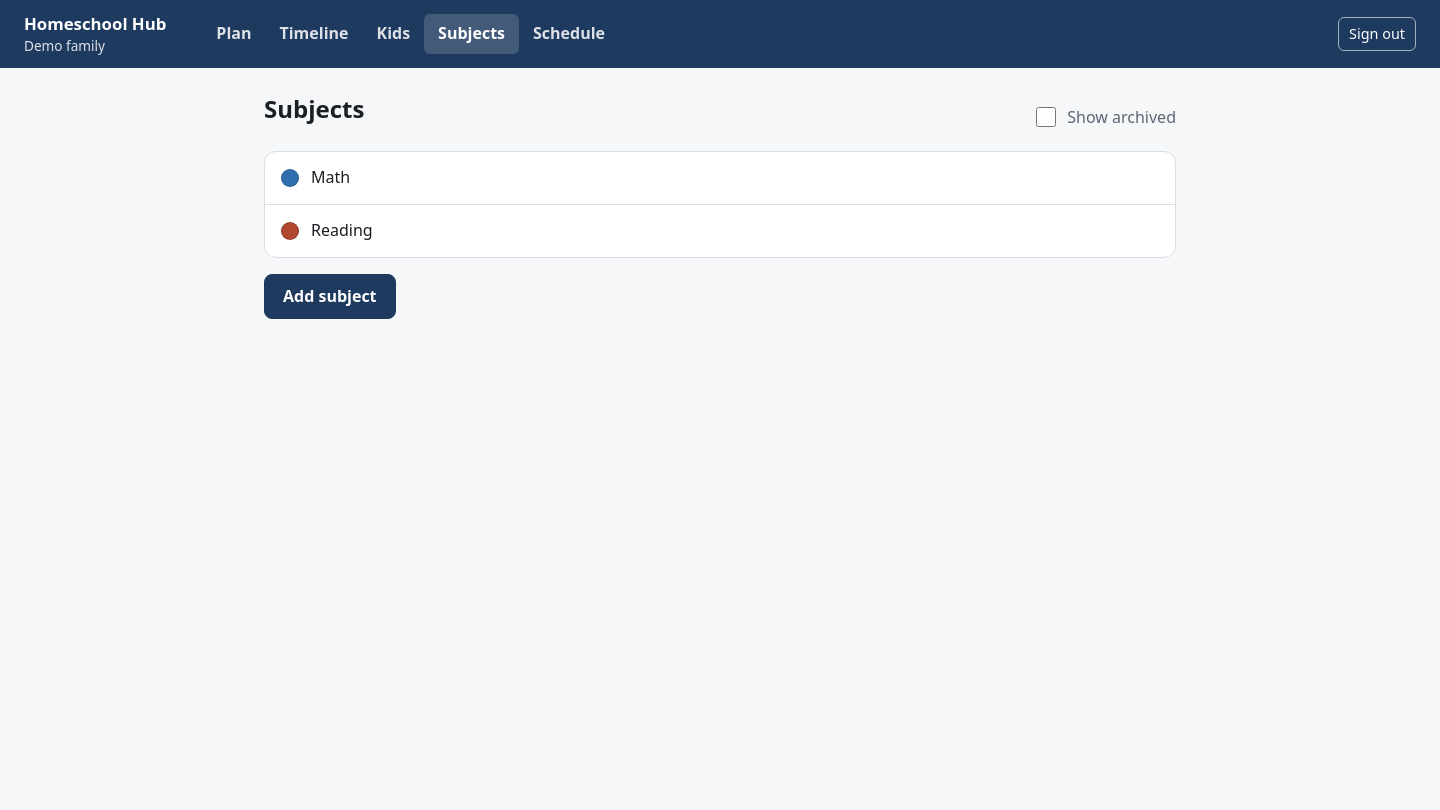
Test: Edit subject › recolor sends only the color
Check: the list named "Subjects" is shown, box [264,151,1176,258]
Click the button "Reading".
click(342, 230)  # box [265,205,1175,257]
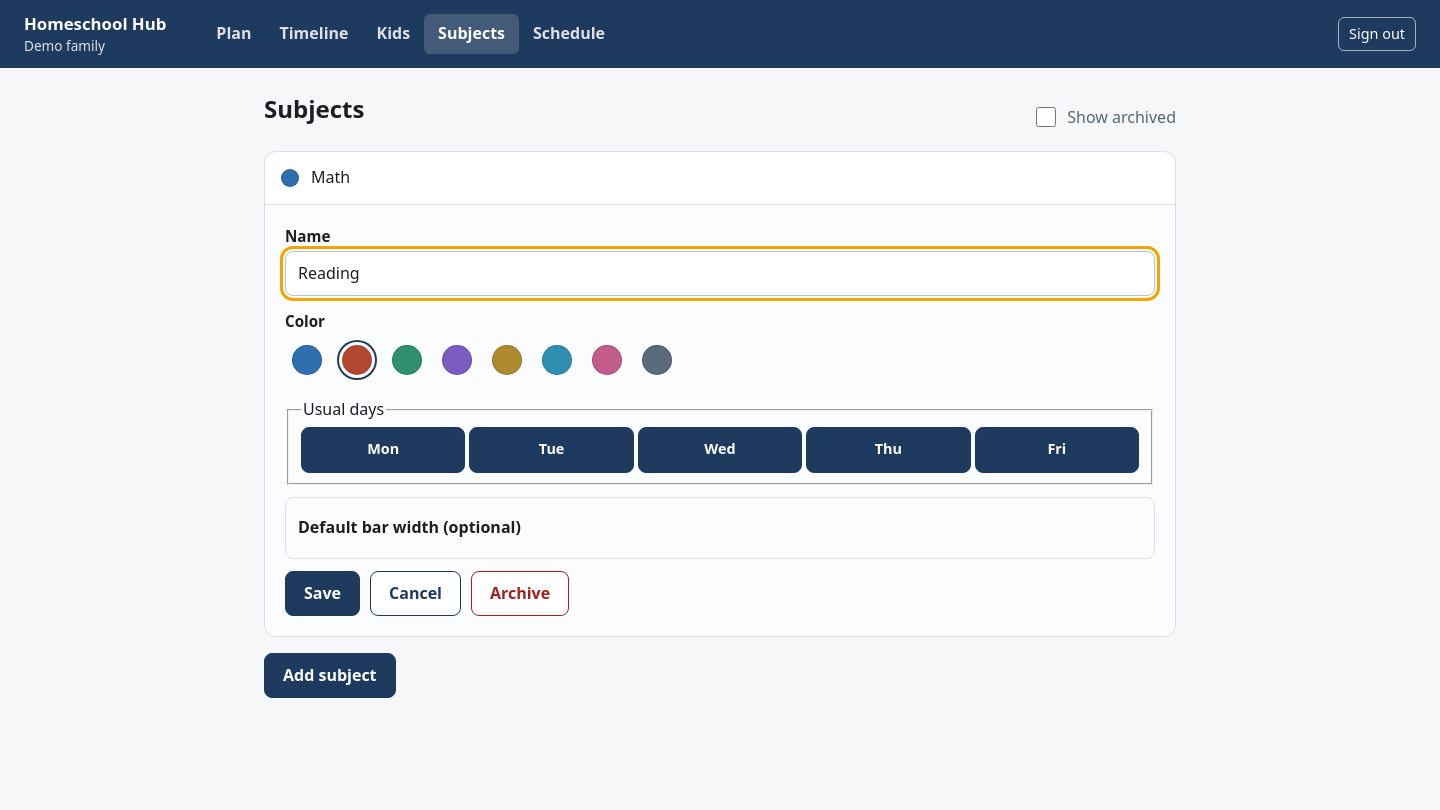
Click the radio button named "Green".
click(407, 360)  # box [392,345,422,375]
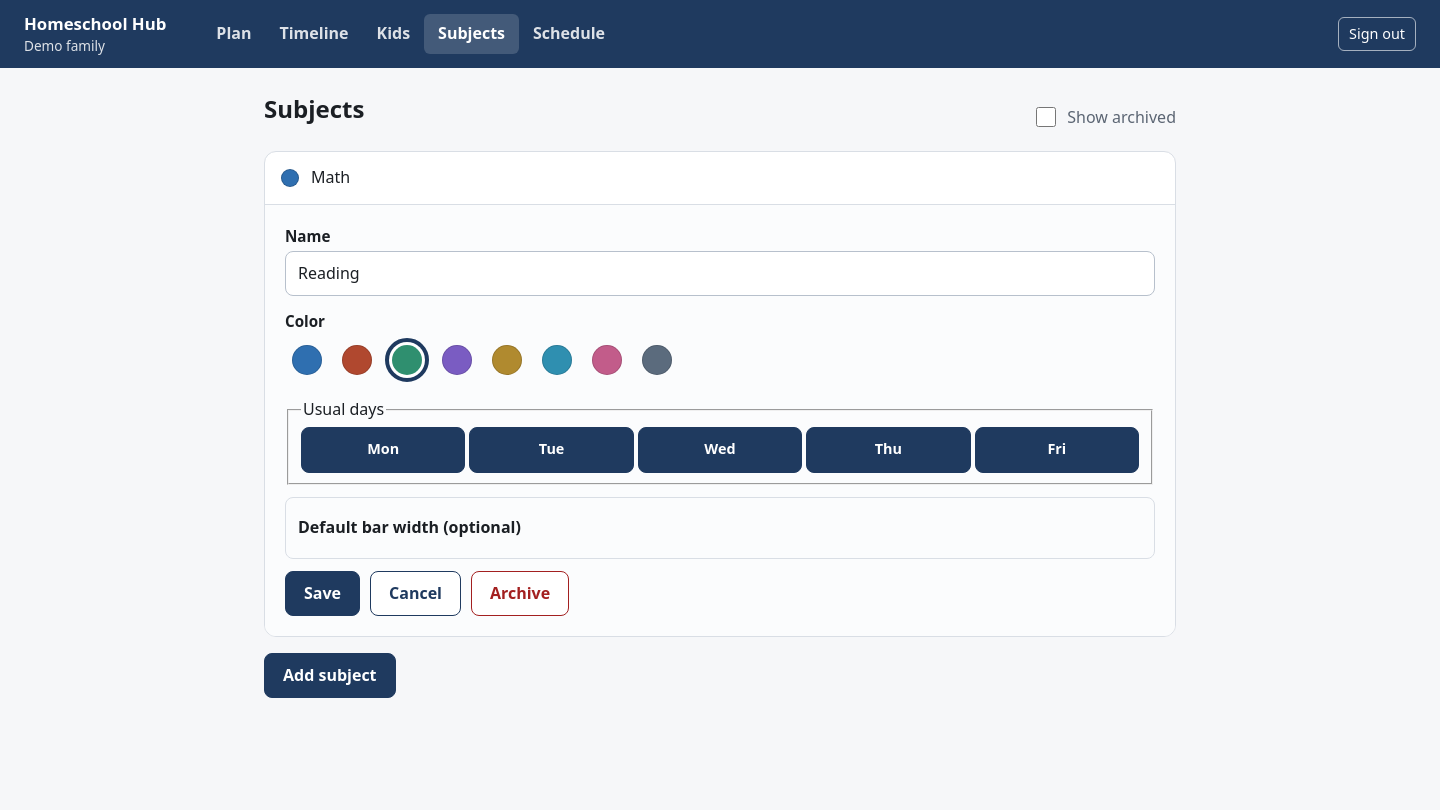
Click the button "Save".
click(322, 594)  # box [285,571,360,616]
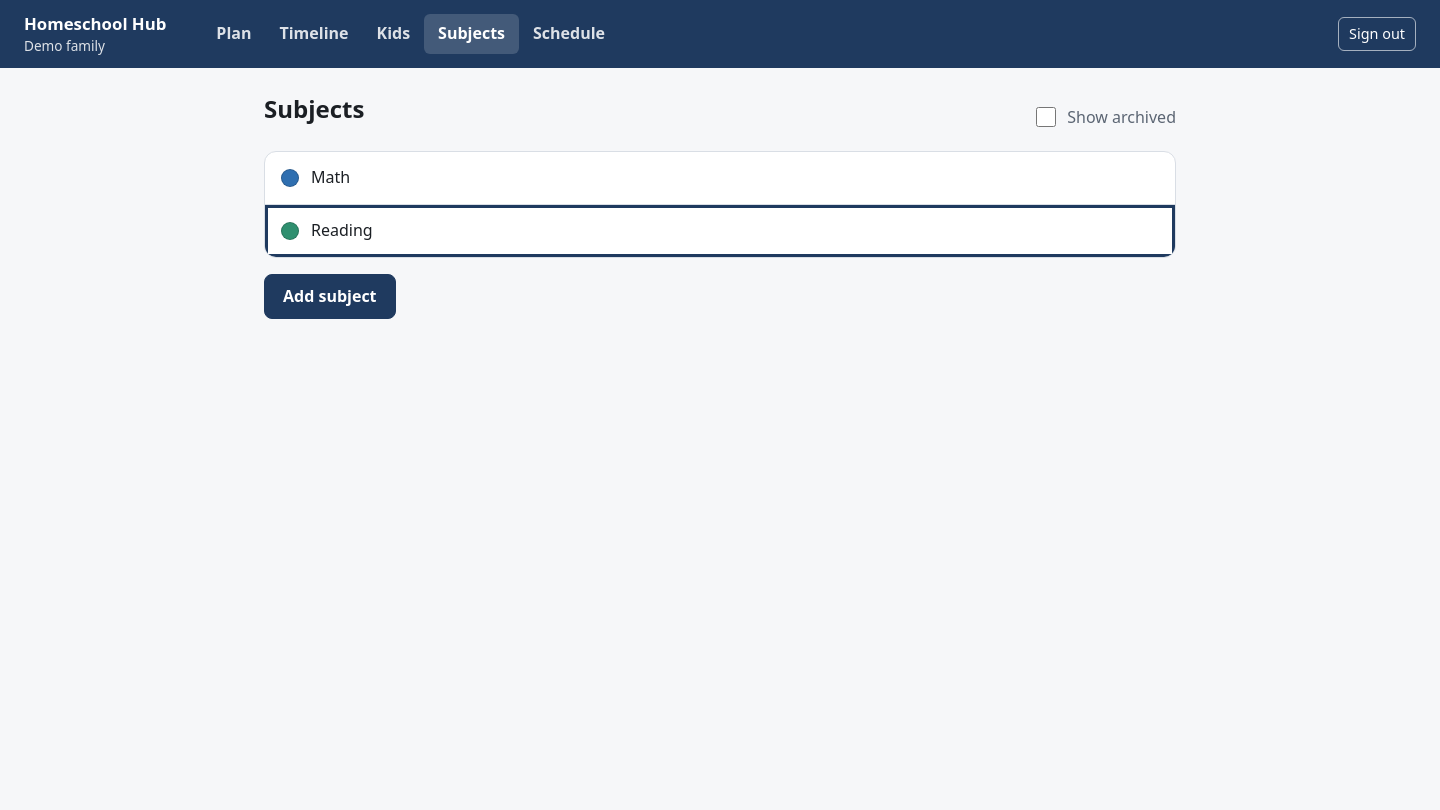
Check: the button "Reading" is shown, box [265,205,1175,257]
